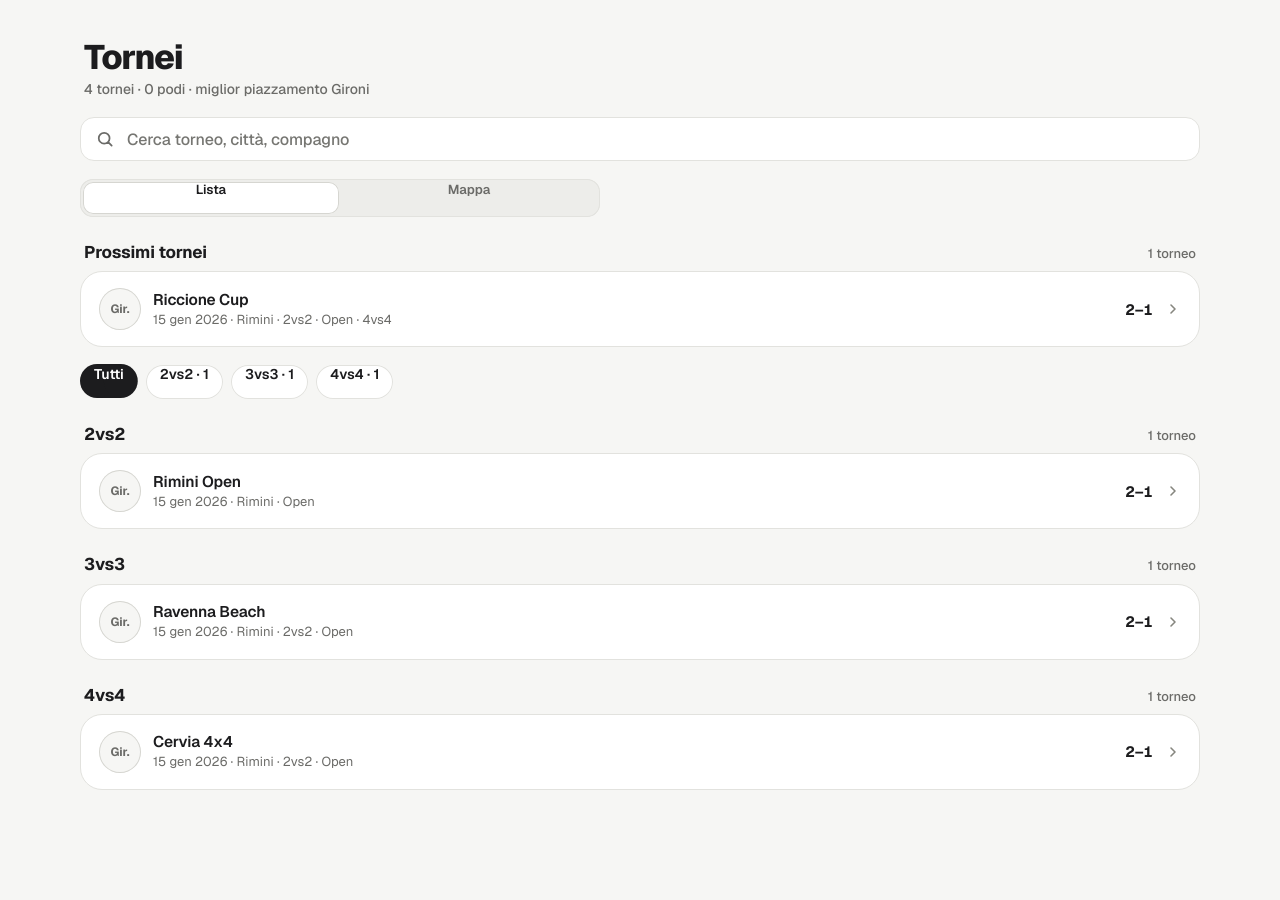
Scenario: Tornei — con l'orologio fermo › Tornei — filtro a chip › selezionando un formato l'archivio mostra solo quello
Click the button "3vs3 · 1" at {"x": 270, "y": 382}, box [231, 365, 308, 399]
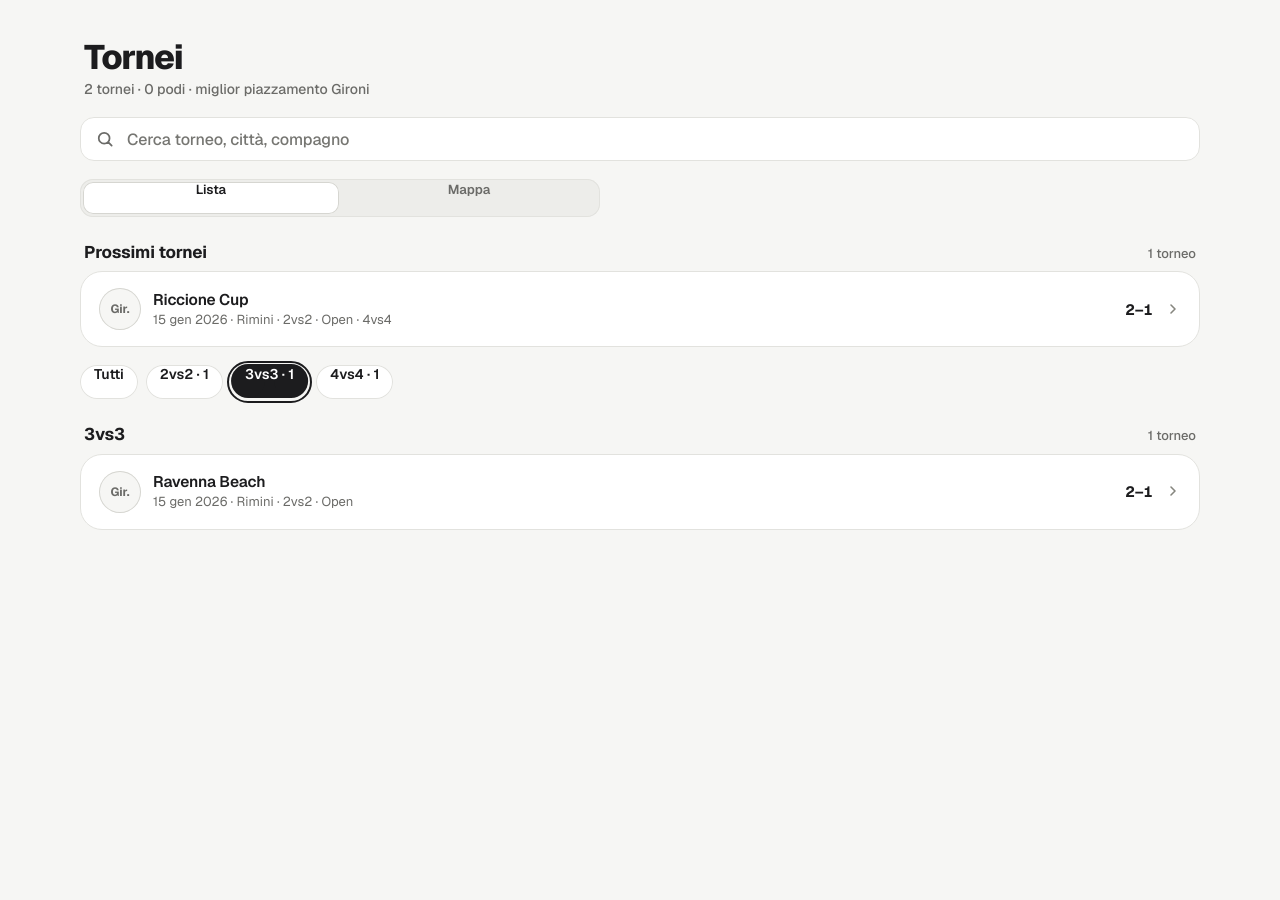
Expected: the link "Ravenna Beach" is shown, [153, 472, 265, 492]
Expected: the link "Rimini Open" is gone
